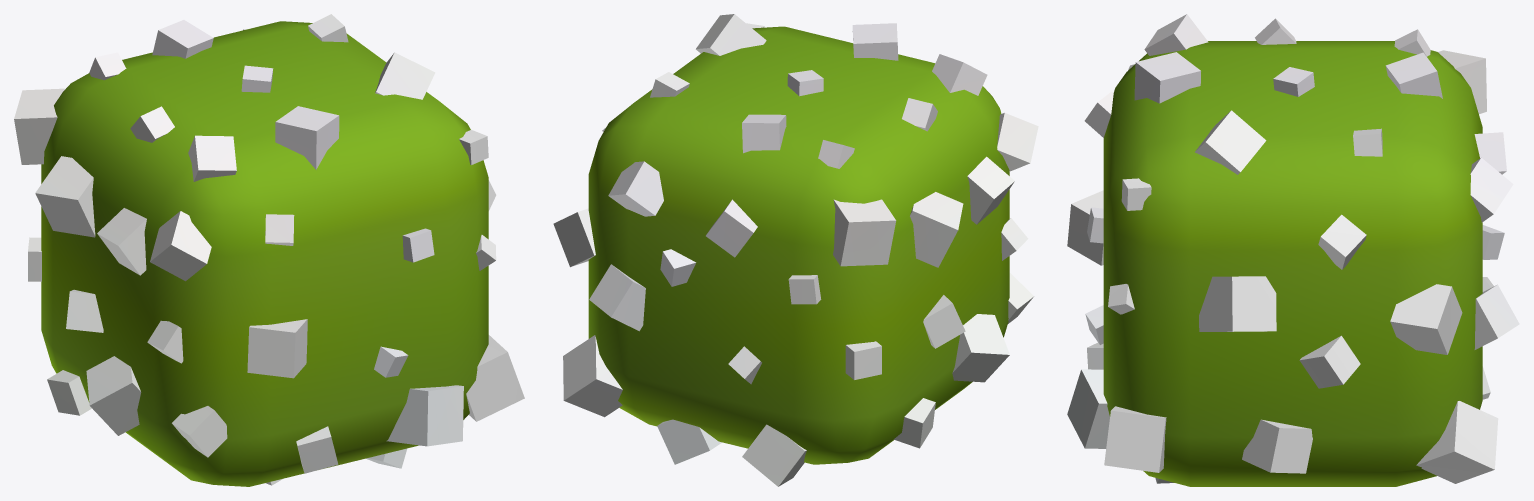
The model's file is candy_glass_24.fbx.
3 views of the same model, side by side, from view 1: azimuth 30°, elevation 25°; view 2: azimuth 150°, elevation 25°; view 3: azimuth 270°, elevation 25° (orthographic). The views are drawn at different scales.
Visible parts, largest first — view 1: c_g_24; view 2: c_g_24; view 3: c_g_24.
Boxes of the visible parts, x1,y1,x2,y2 form: c_g_24: (14, 14, 524, 486); c_g_24: (553, 14, 1038, 486); c_g_24: (1067, 14, 1519, 486).
Bounding box in the file's own units: 139 × 128 × 134.
